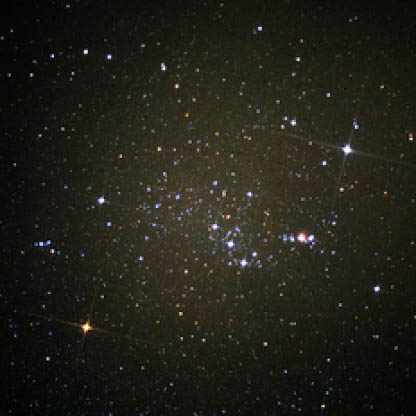Orion: (61, 303, 121, 354), (324, 123, 370, 173), (72, 174, 119, 218), (361, 273, 399, 311), (232, 259, 263, 283), (221, 235, 246, 254), (203, 216, 228, 233)
